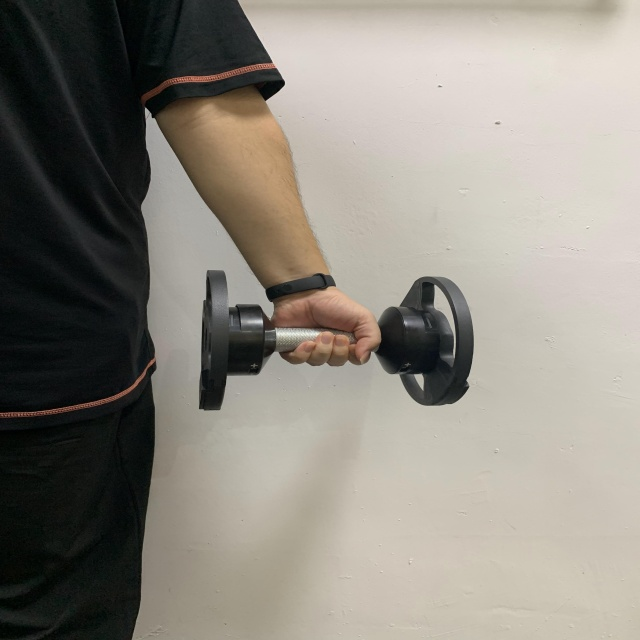01-2kg: (194, 267, 476, 413)
